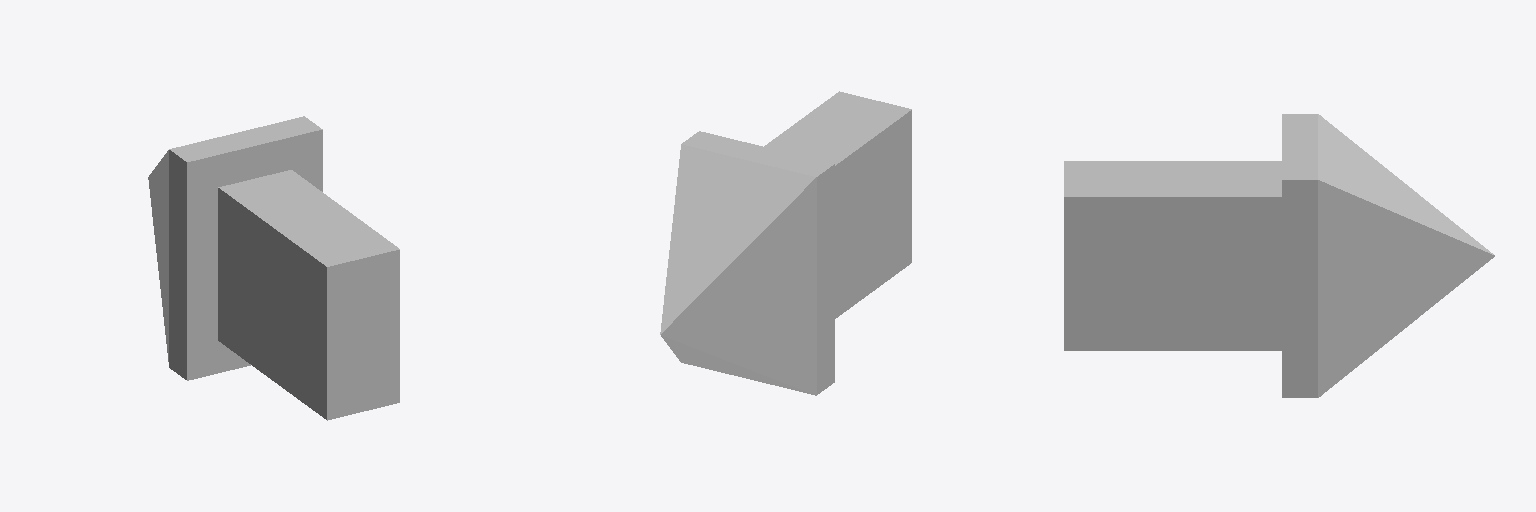
Rendered from arrow.obj.
3 renders of one model, left to right at view 1: azimuth 30°, elevation 25°; view 2: azimuth 150°, elevation 25°; view 3: azimuth 270°, elevation 25°, orthographic.
Visible parts, largest first — view 1: Cube; view 2: Cube; view 3: Cube.
Boxes of the visible parts, <box> form: Cube: <box>148,116,399,420</box>; Cube: <box>660,91,911,395</box>; Cube: <box>1064,114,1494,397</box>.
Size of the model in its own units: 0.9243 by 1.42 by 2.55.